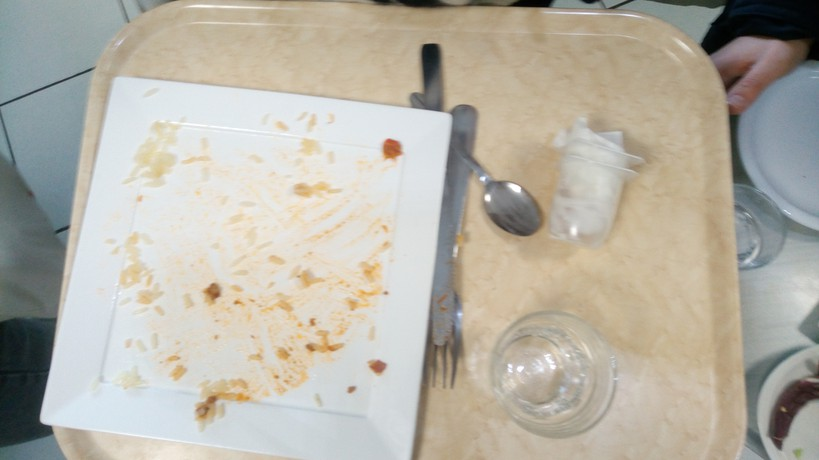cup: (486, 309, 655, 460)
cutlery: (435, 99, 541, 372)
trash: (549, 121, 636, 246)
